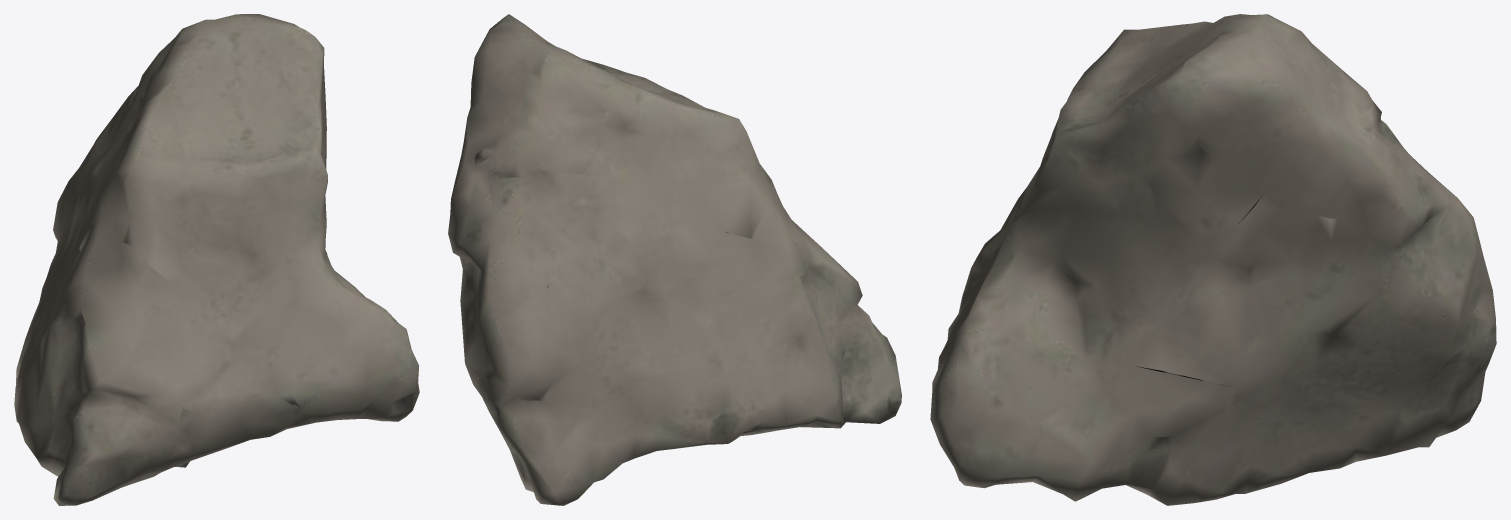
File: ph-moon-rock-05.glb
3 renders of one model, left to right at view 1: azimuth 30°, elevation 25°; view 2: azimuth 150°, elevation 25°; view 3: azimuth 270°, elevation 25°, orthographic. The views are drawn at different scales.
Parts seen in each view (by area): view 1: ph-moon-rock-05_LOD0; view 2: ph-moon-rock-05_LOD0; view 3: ph-moon-rock-05_LOD0.
Part boxes in pixels (x1=…): ph-moon-rock-05_LOD0: x1=14, y1=14, x2=419, y2=505; ph-moon-rock-05_LOD0: x1=448, y1=14, x2=901, y2=505; ph-moon-rock-05_LOD0: x1=930, y1=14, x2=1496, y2=505.
Size of what is drawn, in the model's own units: 0.8836 by 0.9007 by 1.
Materials: 1 (1 with a texture image).
